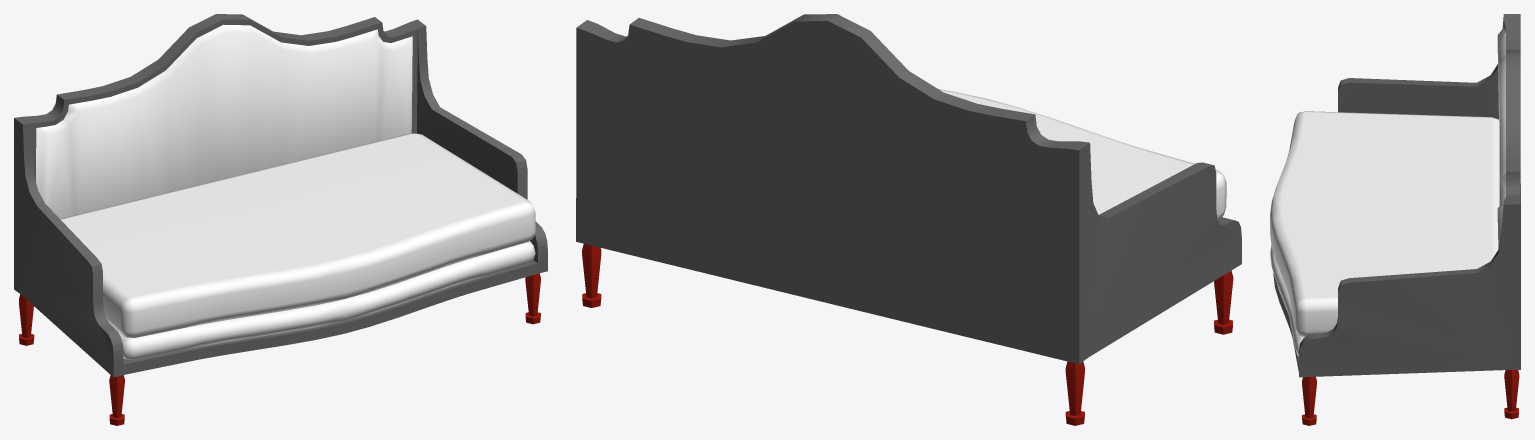
The model's file is SM_Sofa_02.fbx.
3 views of the same model, side by side, from view 1: azimuth 30°, elevation 25°; view 2: azimuth 150°, elevation 25°; view 3: azimuth 270°, elevation 25° (orthographic). The views are drawn at different scales.
Parts seen in each view (by area): view 1: SM_Sofa_02; view 2: SM_Sofa_02; view 3: SM_Sofa_02.
Part boxes in pixels (x1,y1,x2,y2): SM_Sofa_02: (14,14,547,425); SM_Sofa_02: (576,14,1241,425); SM_Sofa_02: (1270,14,1520,425).
Bounding box in the file's own units: 79.05 × 48.27 × 40.91.
